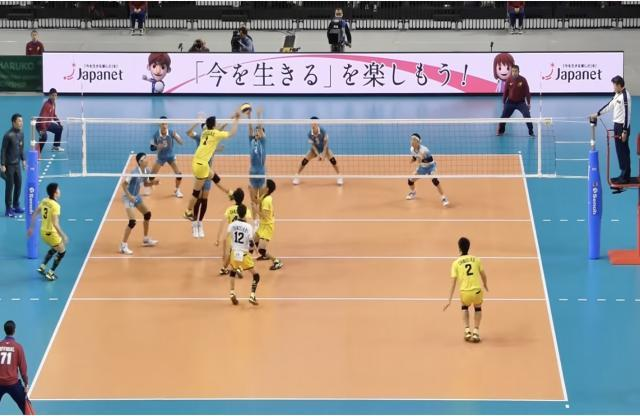spike: (184, 100, 258, 226)
